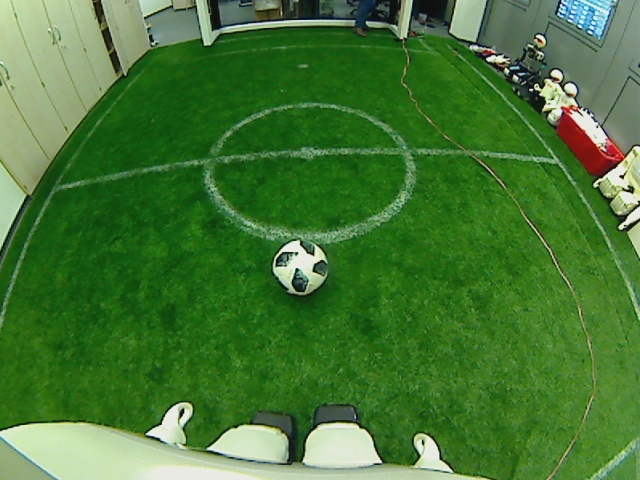ball: (270, 237, 330, 296)
